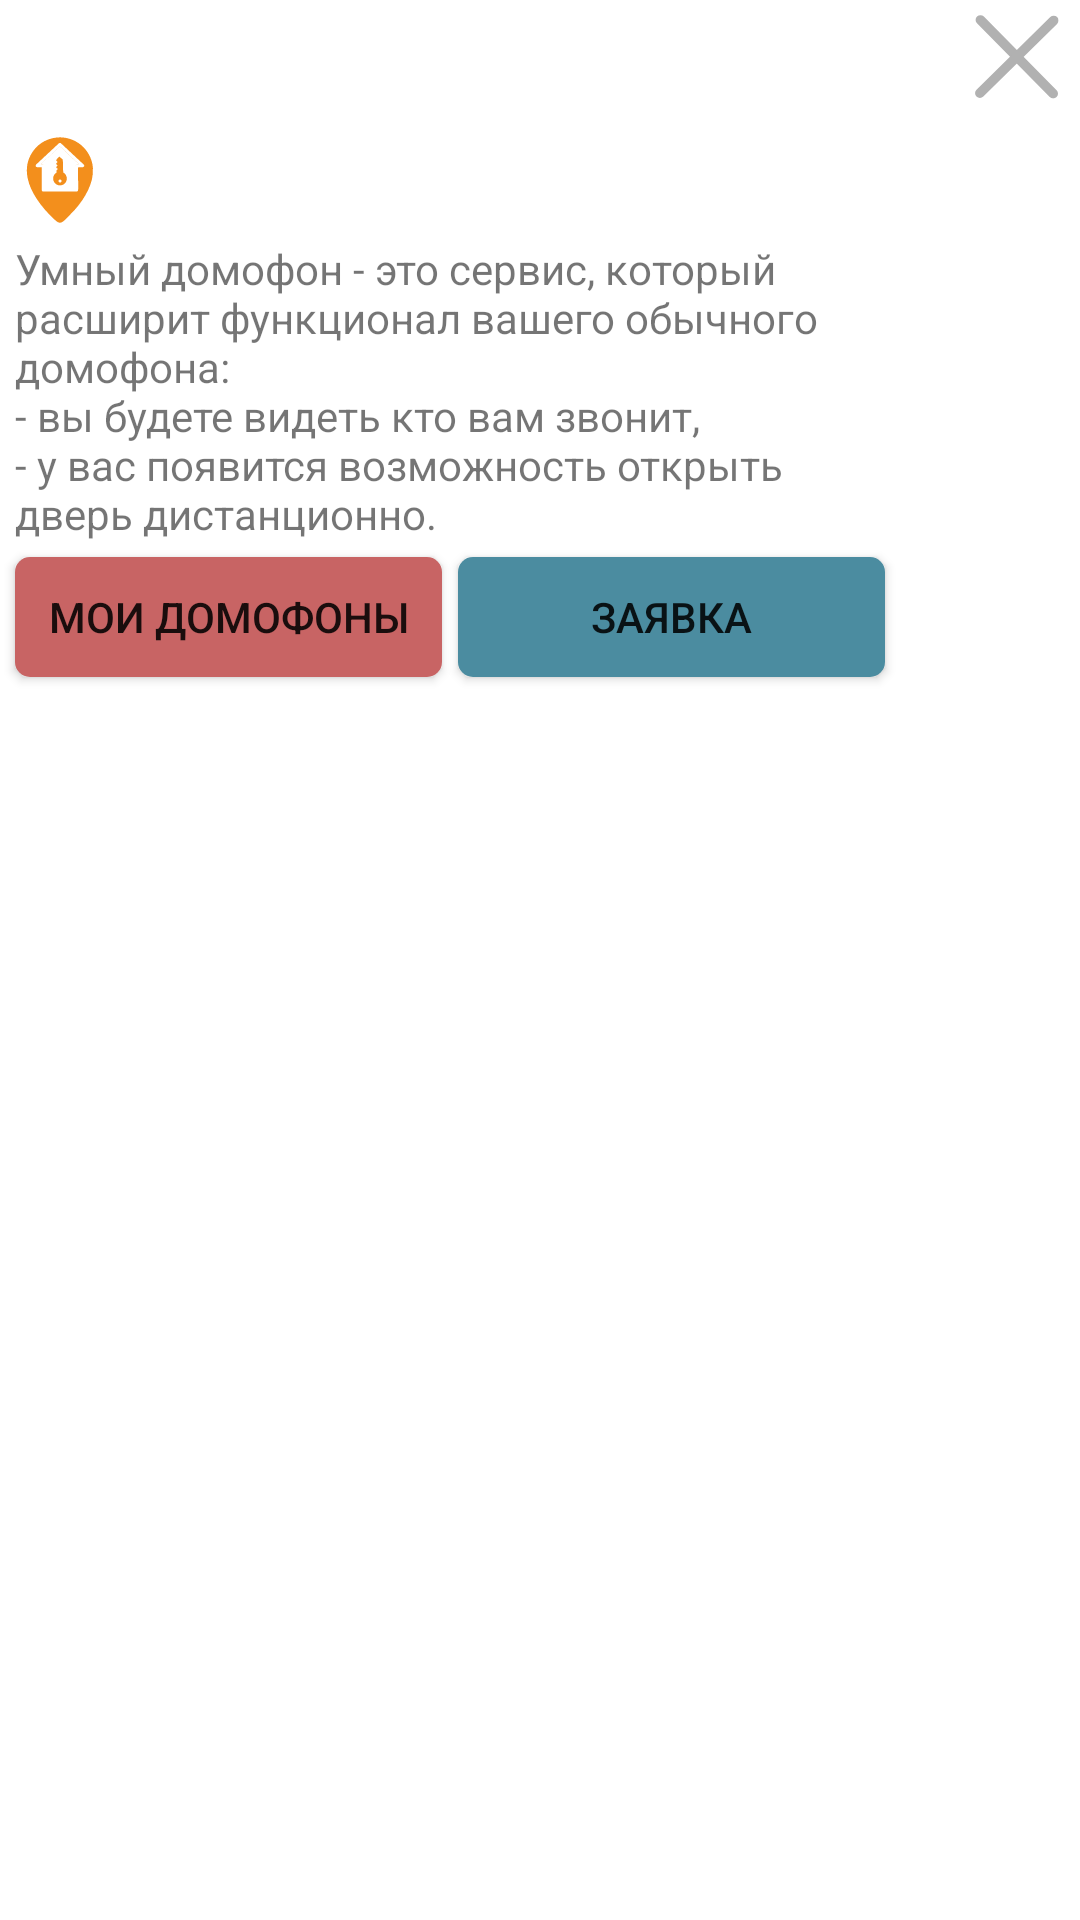

Screen size 1080 × 1920. Icon name, then its center in pixels as (x=x, y=y):
close cross: (x=1017, y=56)
map domofon: (x=59, y=180)
